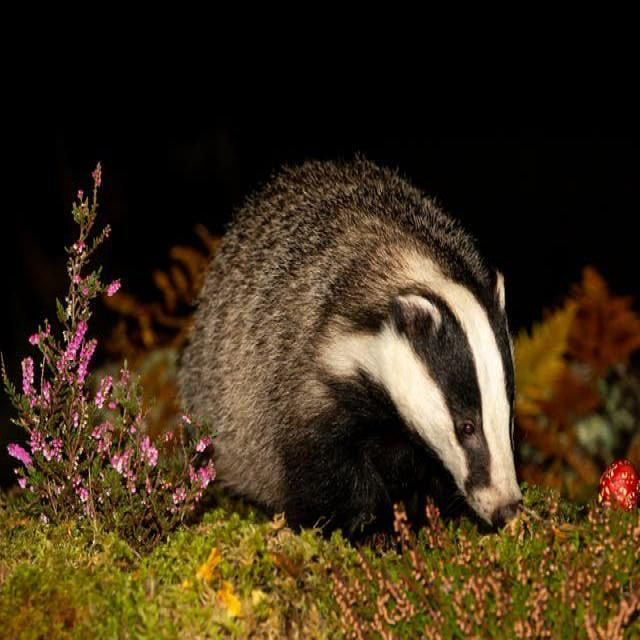Badger: (165, 140, 530, 542)
